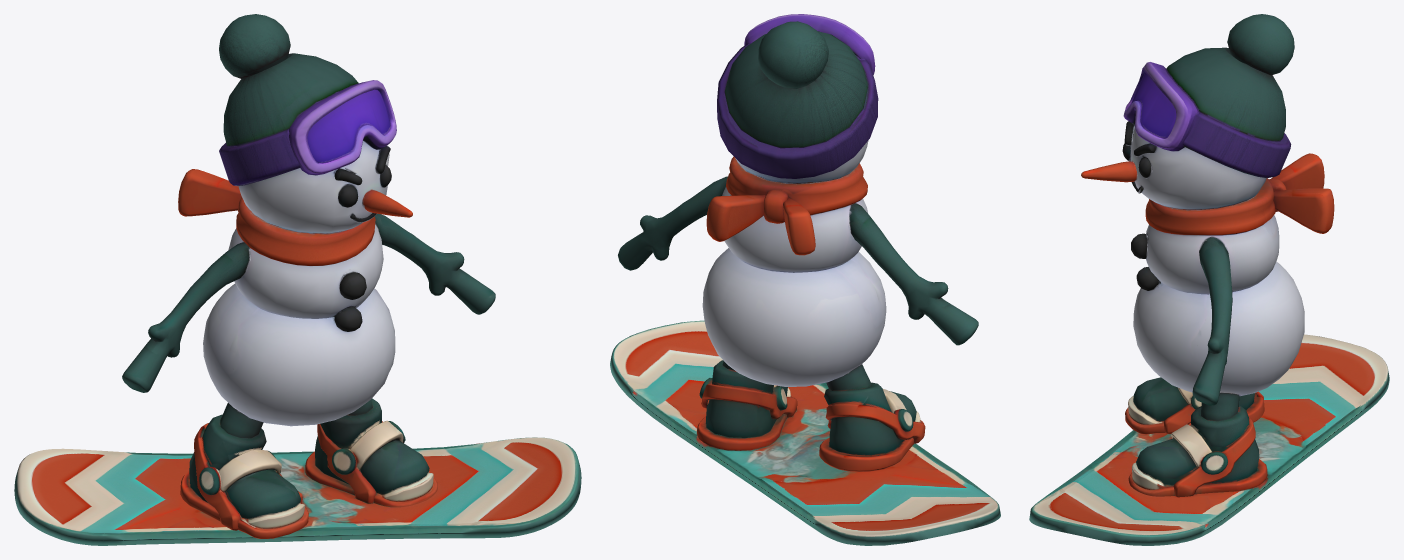
The model's file is snow-main.glb.
3 renders of one model, left to right at view 1: azimuth 30°, elevation 25°; view 2: azimuth 150°, elevation 25°; view 3: azimuth 270°, elevation 25°, orthographic. The views are drawn at different scales.
Visible parts, largest first — view 1: tripo_80449a15_86ff_4d9b_a12b_13bbc4fecd93; view 2: tripo_80449a15_86ff_4d9b_a12b_13bbc4fecd93; view 3: tripo_80449a15_86ff_4d9b_a12b_13bbc4fecd93.
Boxes of the visible parts, x1,y1,x2,y2 form: tripo_80449a15_86ff_4d9b_a12b_13bbc4fecd93: (14, 14, 581, 545); tripo_80449a15_86ff_4d9b_a12b_13bbc4fecd93: (610, 14, 1000, 545); tripo_80449a15_86ff_4d9b_a12b_13bbc4fecd93: (1029, 14, 1389, 545).
Bounding box in the file's own units: 0.9995 × 0.9565 × 0.7173.
Materials: 1 (1 with a texture image).
